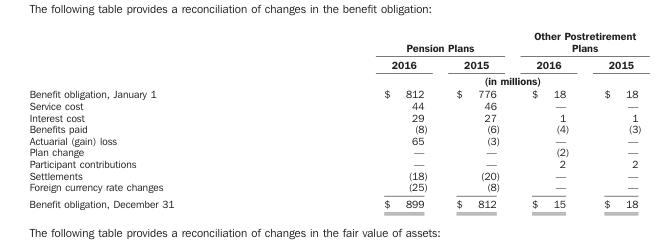table: (28, 28, 640, 209)
table column: (28, 28, 278, 209), (278, 28, 441, 209), (441, 28, 515, 209), (515, 28, 585, 209), (585, 28, 640, 209)
table column header: (28, 28, 640, 87)
table row: (28, 28, 640, 55), (28, 55, 640, 72), (28, 72, 640, 87), (28, 194, 640, 209), (28, 180, 640, 194), (28, 87, 640, 99), (28, 110, 640, 122), (28, 122, 640, 134), (28, 145, 640, 157), (28, 157, 640, 169), (28, 99, 640, 110), (28, 134, 640, 145), (28, 169, 640, 180)
table spanning cell: (278, 28, 515, 55), (278, 72, 640, 87), (515, 28, 640, 55)
